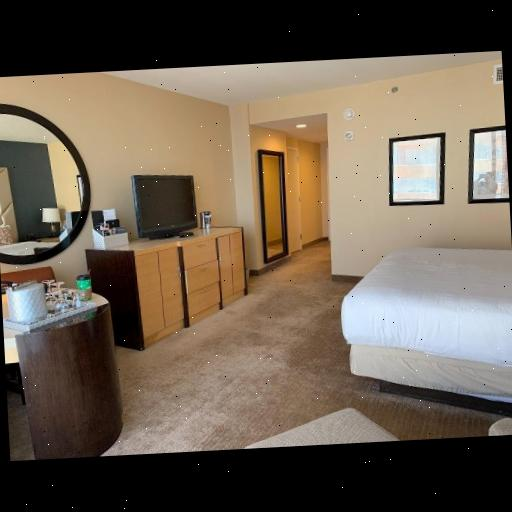clean mirror: (0, 106, 85, 262)
clean_bed: (340, 243, 512, 405)
clean_floor: (93, 240, 487, 458)
organized table: (84, 225, 250, 353)
